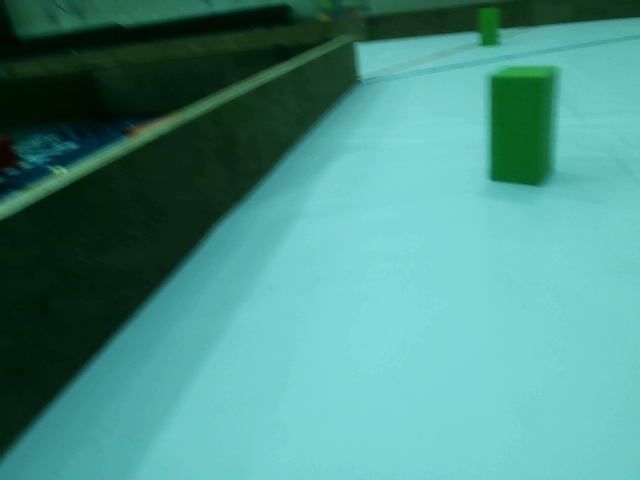green: (482, 65, 559, 189), (479, 5, 507, 45)
